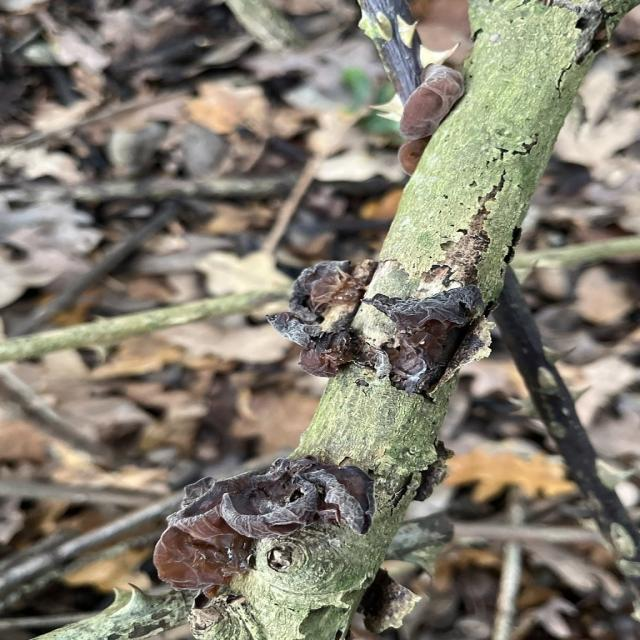Matang: (140, 452, 378, 585), (367, 285, 488, 401), (270, 249, 368, 377)
